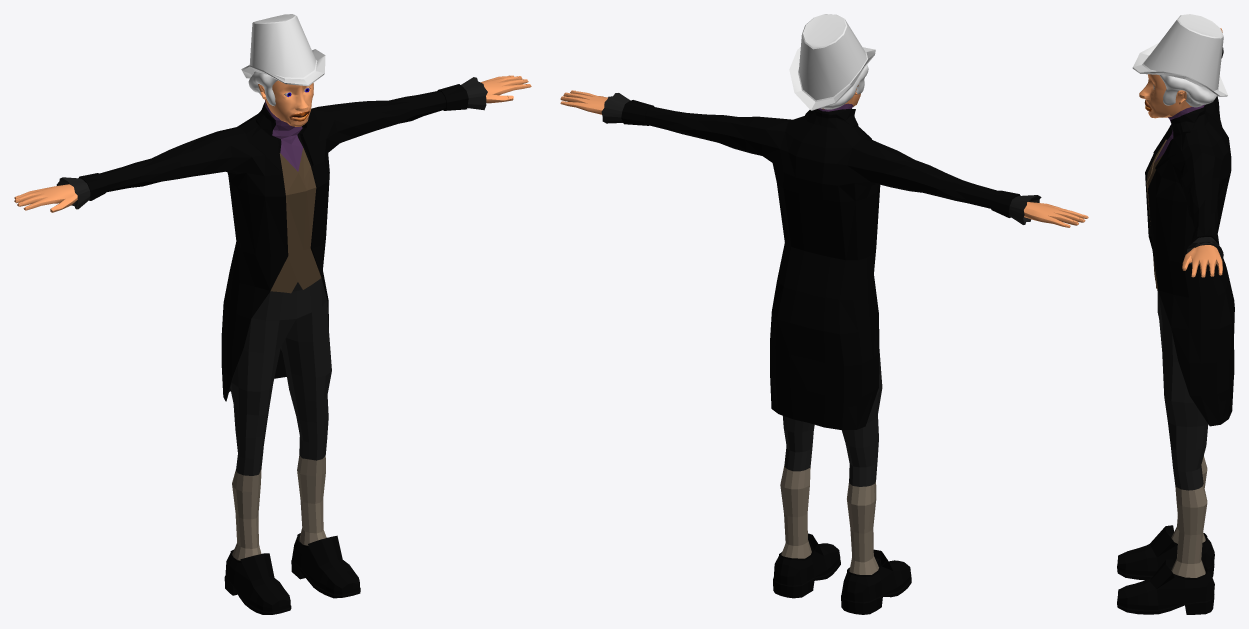
File: Peter_Meyer_Unwrapped.fbx
3 views of the same model, side by side, from view 1: azimuth 30°, elevation 25°; view 2: azimuth 150°, elevation 25°; view 3: azimuth 270°, elevation 25° (orthographic). The views are drawn at different scales.
Visible parts, largest first — view 1: Jacket, Trousers, Shoes, Socks, Hat, Vest, Face, Hand_Right, Shirt, Cravatt, Hand_Left; view 2: Jacket, Hat, Shoes, Socks, Trousers, Shirt, Hand_Right, Hand_Left; view 3: Jacket, Shoes, Trousers, Hat, Socks, Face, Wigg, Hand_Left, Shirt, Vest, Cravatt.
Boxes of the visible parts, left/top/right/bottom form: Jacket: left=78, top=84, right=468, bottom=401; Trousers: left=230, top=278, right=331, bottom=475; Shoes: left=224, top=533, right=360, bottom=614; Socks: left=232, top=455, right=326, bottom=560; Hat: left=241, top=14, right=325, bottom=86; Vest: left=270, top=148, right=321, bottom=293; Face: left=258, top=80, right=313, bottom=126; Hand_Right: left=14, top=184, right=77, bottom=212; Shirt: left=56, top=77, right=487, bottom=209; Cravatt: left=265, top=100, right=302, bottom=171; Hand_Left: left=481, top=75, right=531, bottom=103; Jacket: left=621, top=100, right=1020, bottom=430; Hat: left=789, top=14, right=875, bottom=110; Shoes: left=773, top=533, right=911, bottom=614; Socks: left=780, top=465, right=878, bottom=574; Trousers: left=783, top=349, right=882, bottom=486; Shirt: left=601, top=93, right=1041, bottom=224; Hand_Right: left=1024, top=202, right=1088, bottom=227; Hand_Left: left=560, top=90, right=607, bottom=114; Jacket: left=1145, top=96, right=1234, bottom=426; Shoes: left=1117, top=525, right=1214, bottom=614; Trousers: left=1157, top=290, right=1208, bottom=490; Hat: left=1132, top=14, right=1227, bottom=96; Socks: left=1171, top=456, right=1207, bottom=577; Face: left=1139, top=74, right=1191, bottom=118; Wigg: left=1159, top=75, right=1216, bottom=107; Hand_Left: left=1182, top=245, right=1222, bottom=277; Shirt: left=1186, top=47, right=1223, bottom=264; Vest: left=1146, top=139, right=1166, bottom=289; Cravatt: left=1154, top=104, right=1204, bottom=162.
Bounding box in the file's own units: 69.71 × 73.82 × 13.81.
